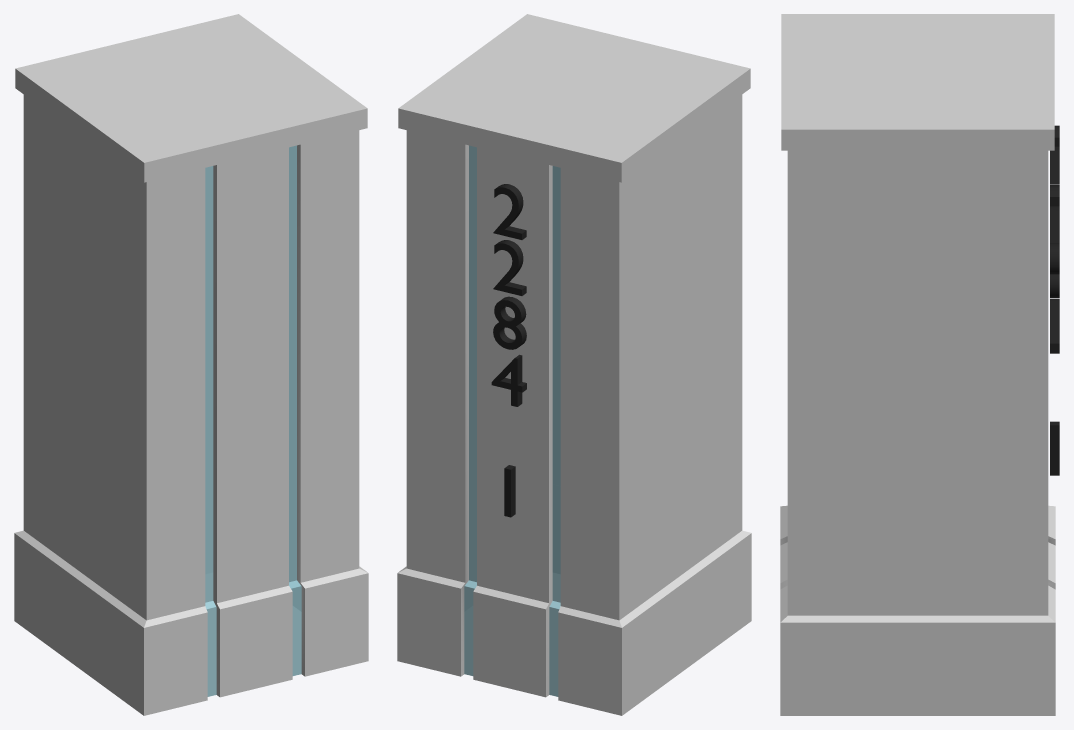
File: team number building1.fbx
3 views of the same model, side by side, from view 1: azimuth 30°, elevation 25°; view 2: azimuth 150°, elevation 25°; view 3: azimuth 270°, elevation 25° (orthographic). The views are drawn at different scales.
Visible parts, largest first — view 1: Cube.001; view 2: Cube.001, Text.001; view 3: Cube.001, Text.001.
Part boxes in pixels (x1=…): Cube.001: x1=14, y1=14, x2=368, y2=715; Cube.001: x1=397, y1=14, x2=751, y2=715; Text.001: x1=491, y1=184, x2=526, y2=517; Cube.001: x1=780, y1=14, x2=1055, y2=715; Text.001: x1=1050, y1=125, x2=1059, y2=475.
Bounding box in the file's own units: 336 × 789 × 341.
